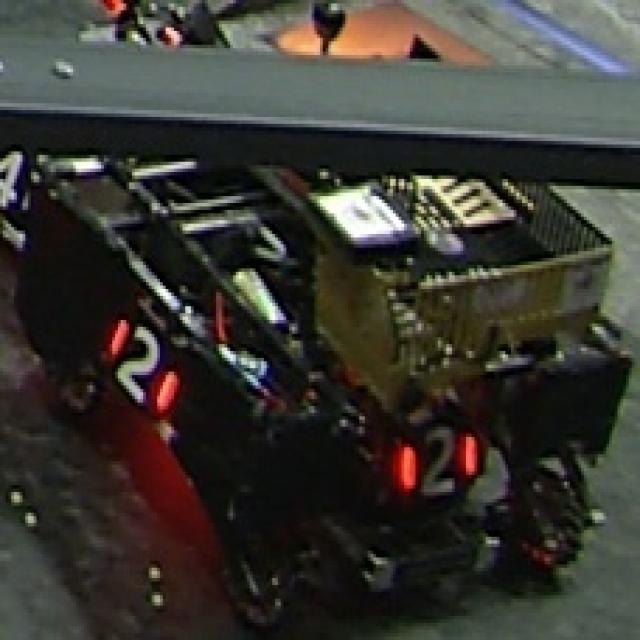R2: (104, 313, 177, 416), (396, 423, 483, 496)
